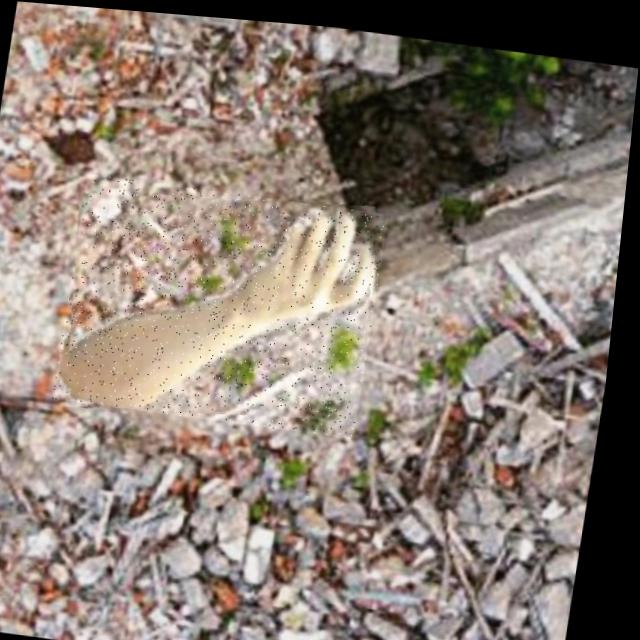Person in Rubble: (59, 171, 393, 433)
